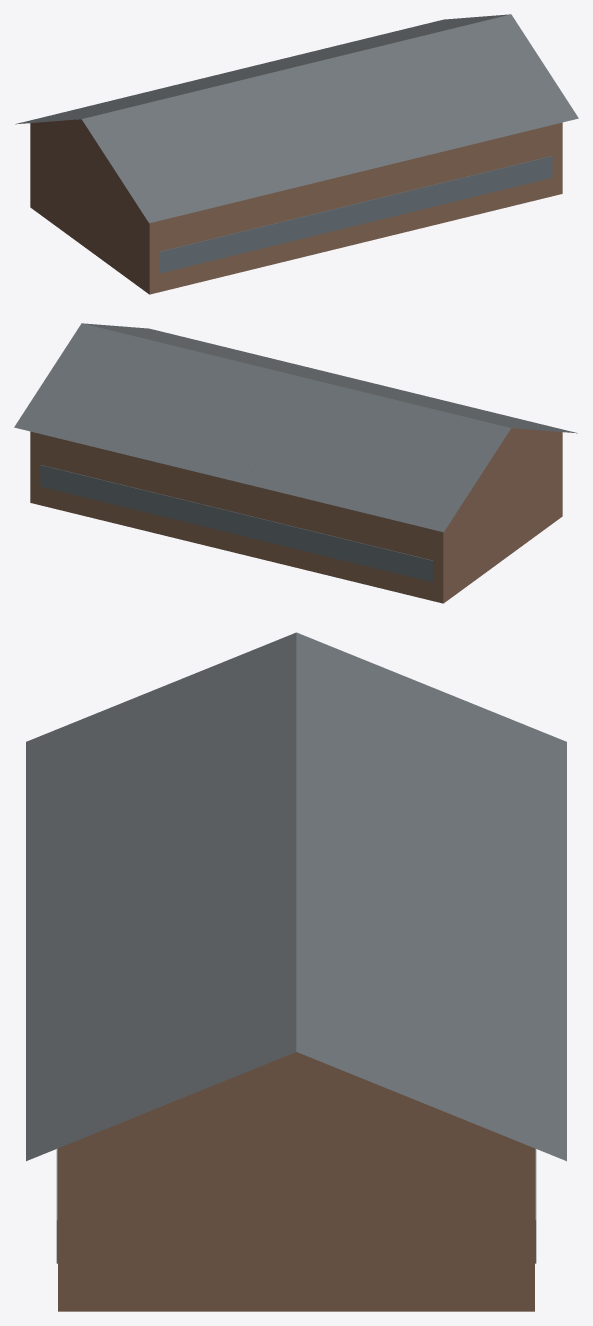
The model's file is fish-market.tone-v1.lod2.glb.
3 renders of one model, top to bottom at view 1: azimuth 30°, elevation 25°; view 2: azimuth 150°, elevation 25°; view 3: azimuth 270°, elevation 25°, orthographic. The views are drawn at different scales.
Visible parts, largest first — view 1: fish-market; view 2: fish-market; view 3: fish-market.
Boxes of the visible parts, bbox=[...] form: fish-market: bbox=[15, 14, 578, 294]; fish-market: bbox=[14, 323, 577, 603]; fish-market: bbox=[26, 632, 566, 1311].
Bounding box in the file's own units: 24.96 × 7.43 × 13.6.
